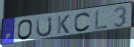3: (113, 5, 129, 29)
C: (73, 11, 92, 32)
K: (57, 14, 71, 35)
L: (94, 9, 109, 31)
O: (17, 19, 34, 41)
U: (35, 15, 53, 38)
